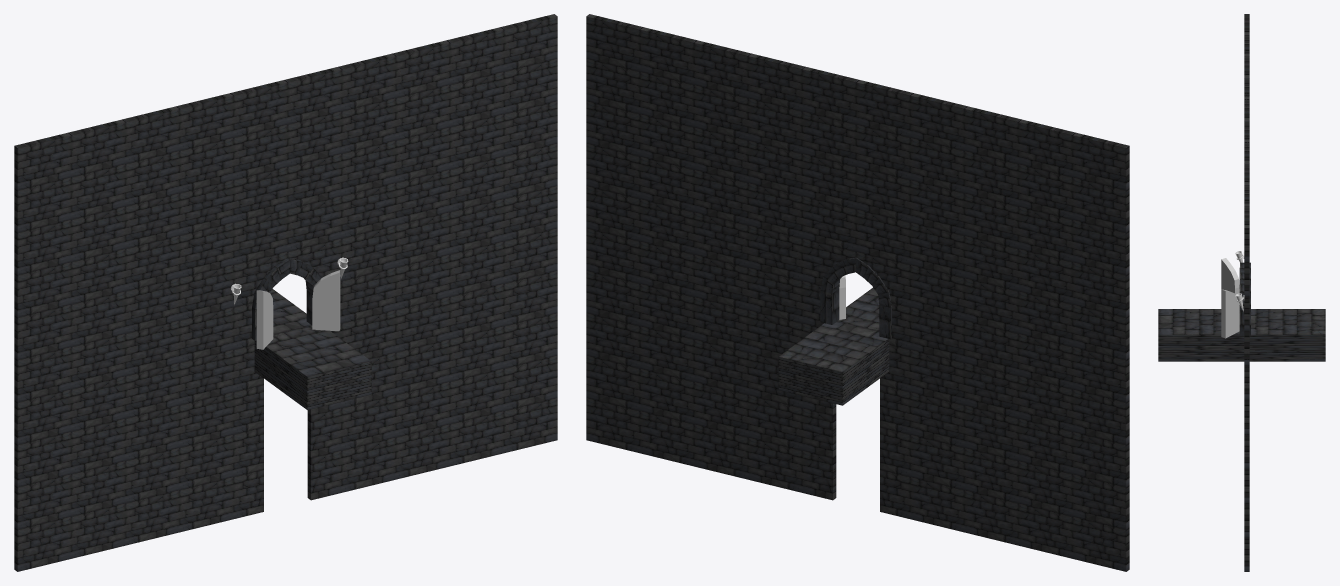
The model's file is gates.FBX.
The picture shows the model from 3 angles, left to right: view 1: azimuth 30°, elevation 25°; view 2: azimuth 150°, elevation 25°; view 3: azimuth 270°, elevation 25°; orthographic projection. The views are drawn at different scales.
Parts seen in each view (by area): view 1: wall, Box001, arc, doorRight, doorLeft; view 2: wall, Box001, arc; view 3: Box001, wall, doorRight, arc, doorLeft.
Boxes of the visible parts, bbox=[...] form: wall: bbox=[14, 14, 557, 571]; Box001: bbox=[254, 289, 371, 410]; arc: bbox=[252, 257, 321, 340]; doorRight: bbox=[312, 270, 340, 331]; doorLeft: bbox=[256, 290, 273, 349]; wall: bbox=[586, 14, 1129, 571]; Box001: bbox=[778, 287, 889, 405]; arc: bbox=[820, 257, 891, 339]; Box001: bbox=[1158, 309, 1325, 361]; wall: bbox=[1244, 14, 1249, 571]; doorRight: bbox=[1221, 289, 1239, 338]; arc: bbox=[1239, 262, 1250, 335]; doorLeft: bbox=[1221, 258, 1239, 294].
Bounding box in the file's own units: 824 × 618 × 272.
